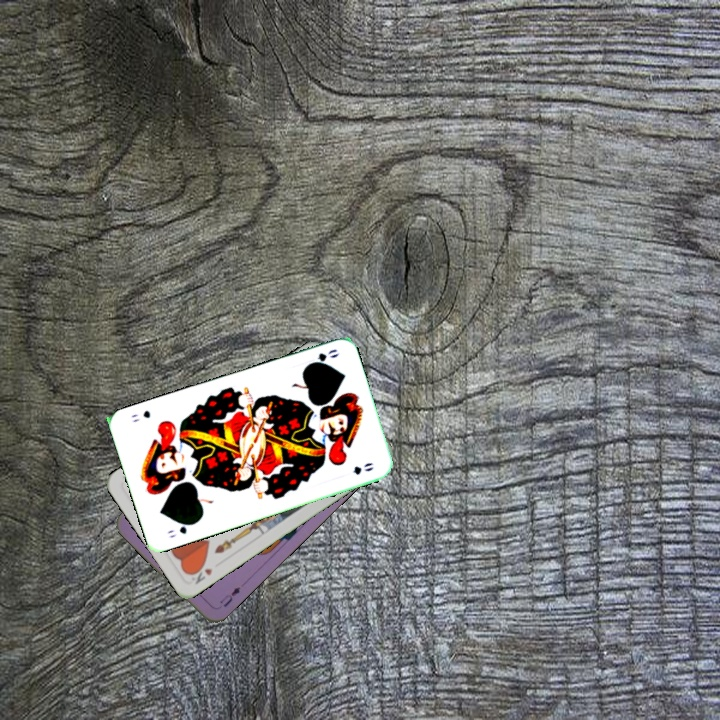EU: (215, 583, 243, 610)
GO: (303, 345, 342, 369), (163, 518, 199, 540)
HK: (186, 560, 215, 587)
